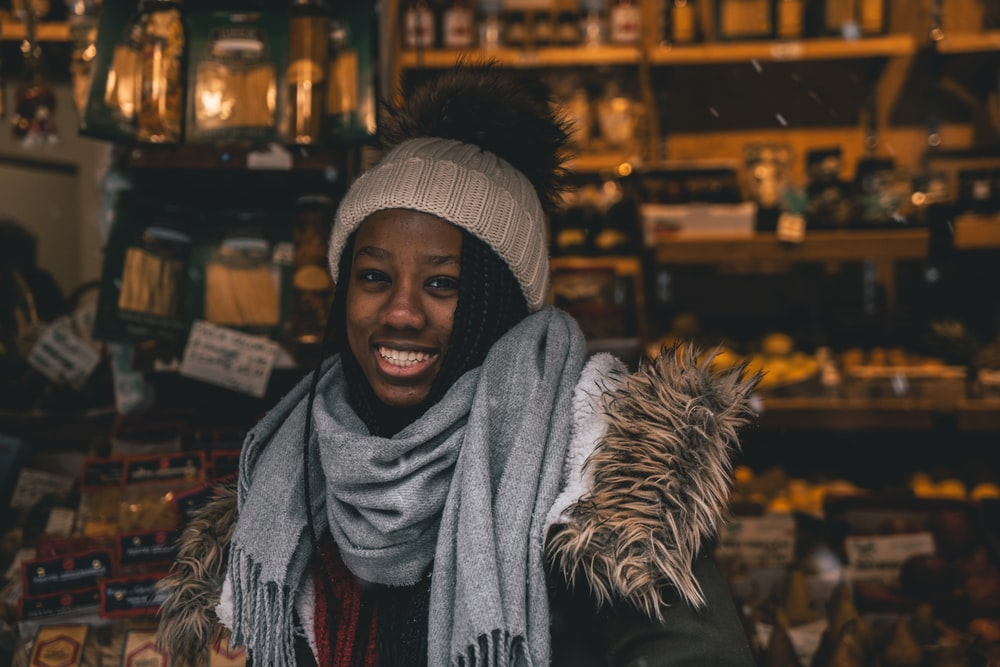face: (332, 203, 502, 417)
